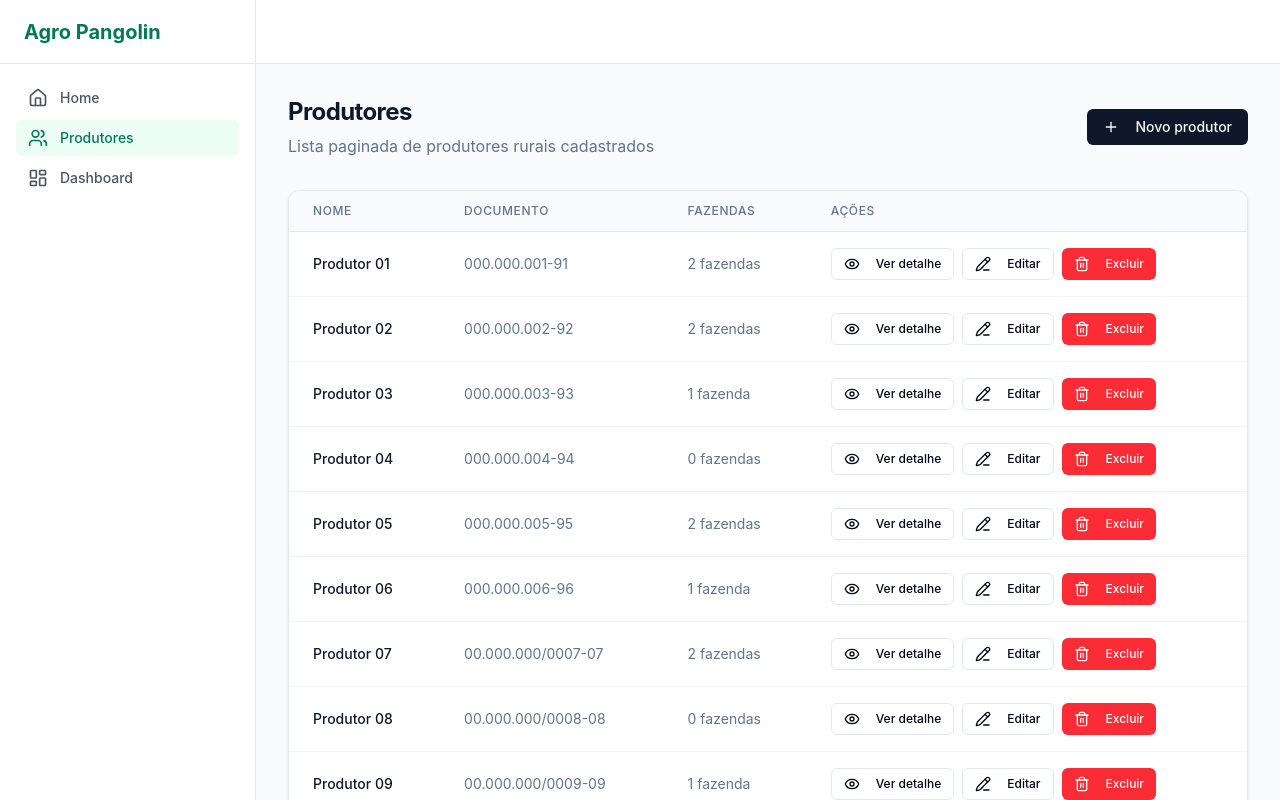
Test: Página de listagem de produtores › exclui produtor com sucesso e o remove da tabela
Expected: the text "Produtor 01" is shown, [289, 232, 440, 296]
Click the button with aria-label "Excluir Produtor 01". click: (1109, 264)
box: [1062, 248, 1156, 280]
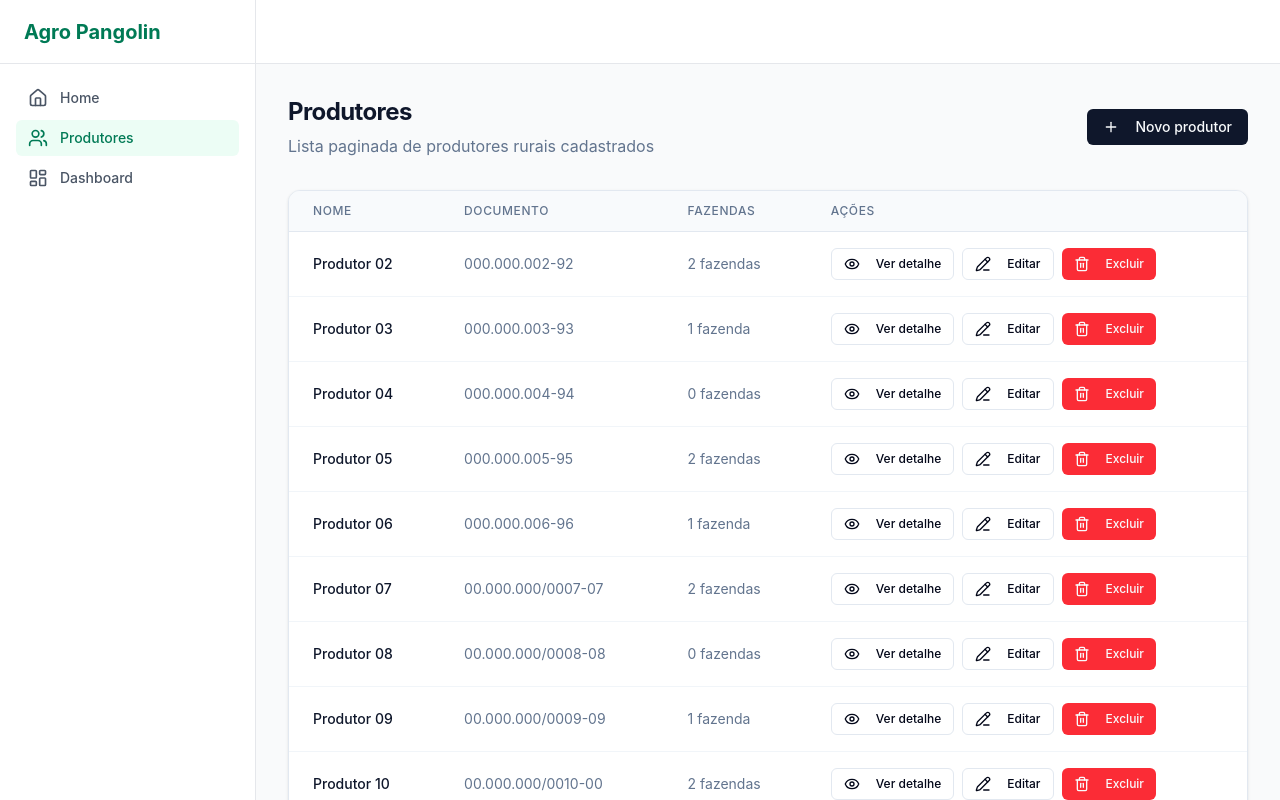
Now the text "Produtor 01" is gone
